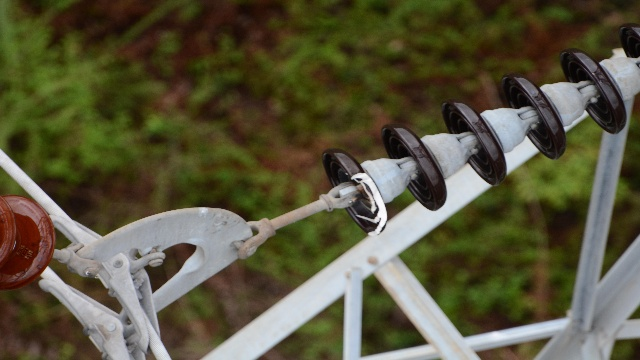broken_local: (348, 168, 386, 237)
insulator_unspecified: (321, 21, 639, 237), (0, 195, 57, 293)
